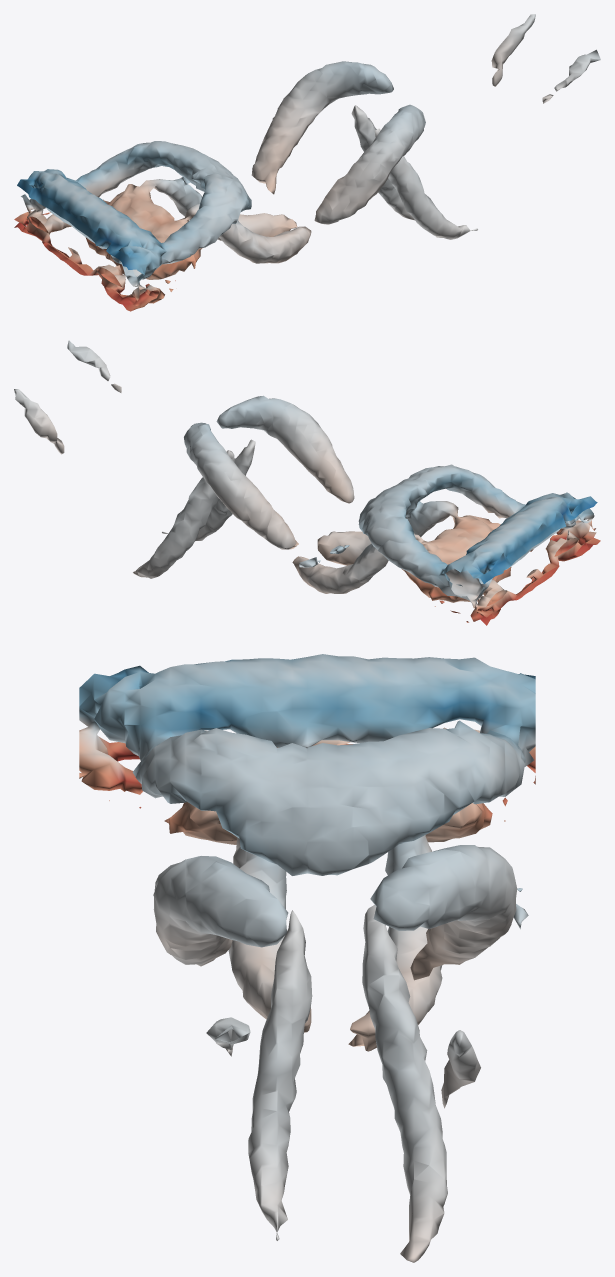
The picture shows the model from 3 angles, top to bottom: view 1: azimuth 30°, elevation 25°; view 2: azimuth 150°, elevation 25°; view 3: azimuth 270°, elevation 25°; orthographic projection. The views are drawn at different scales.
Bounding box in the file's own units: 6.25 × 2.11 × 2.5.
